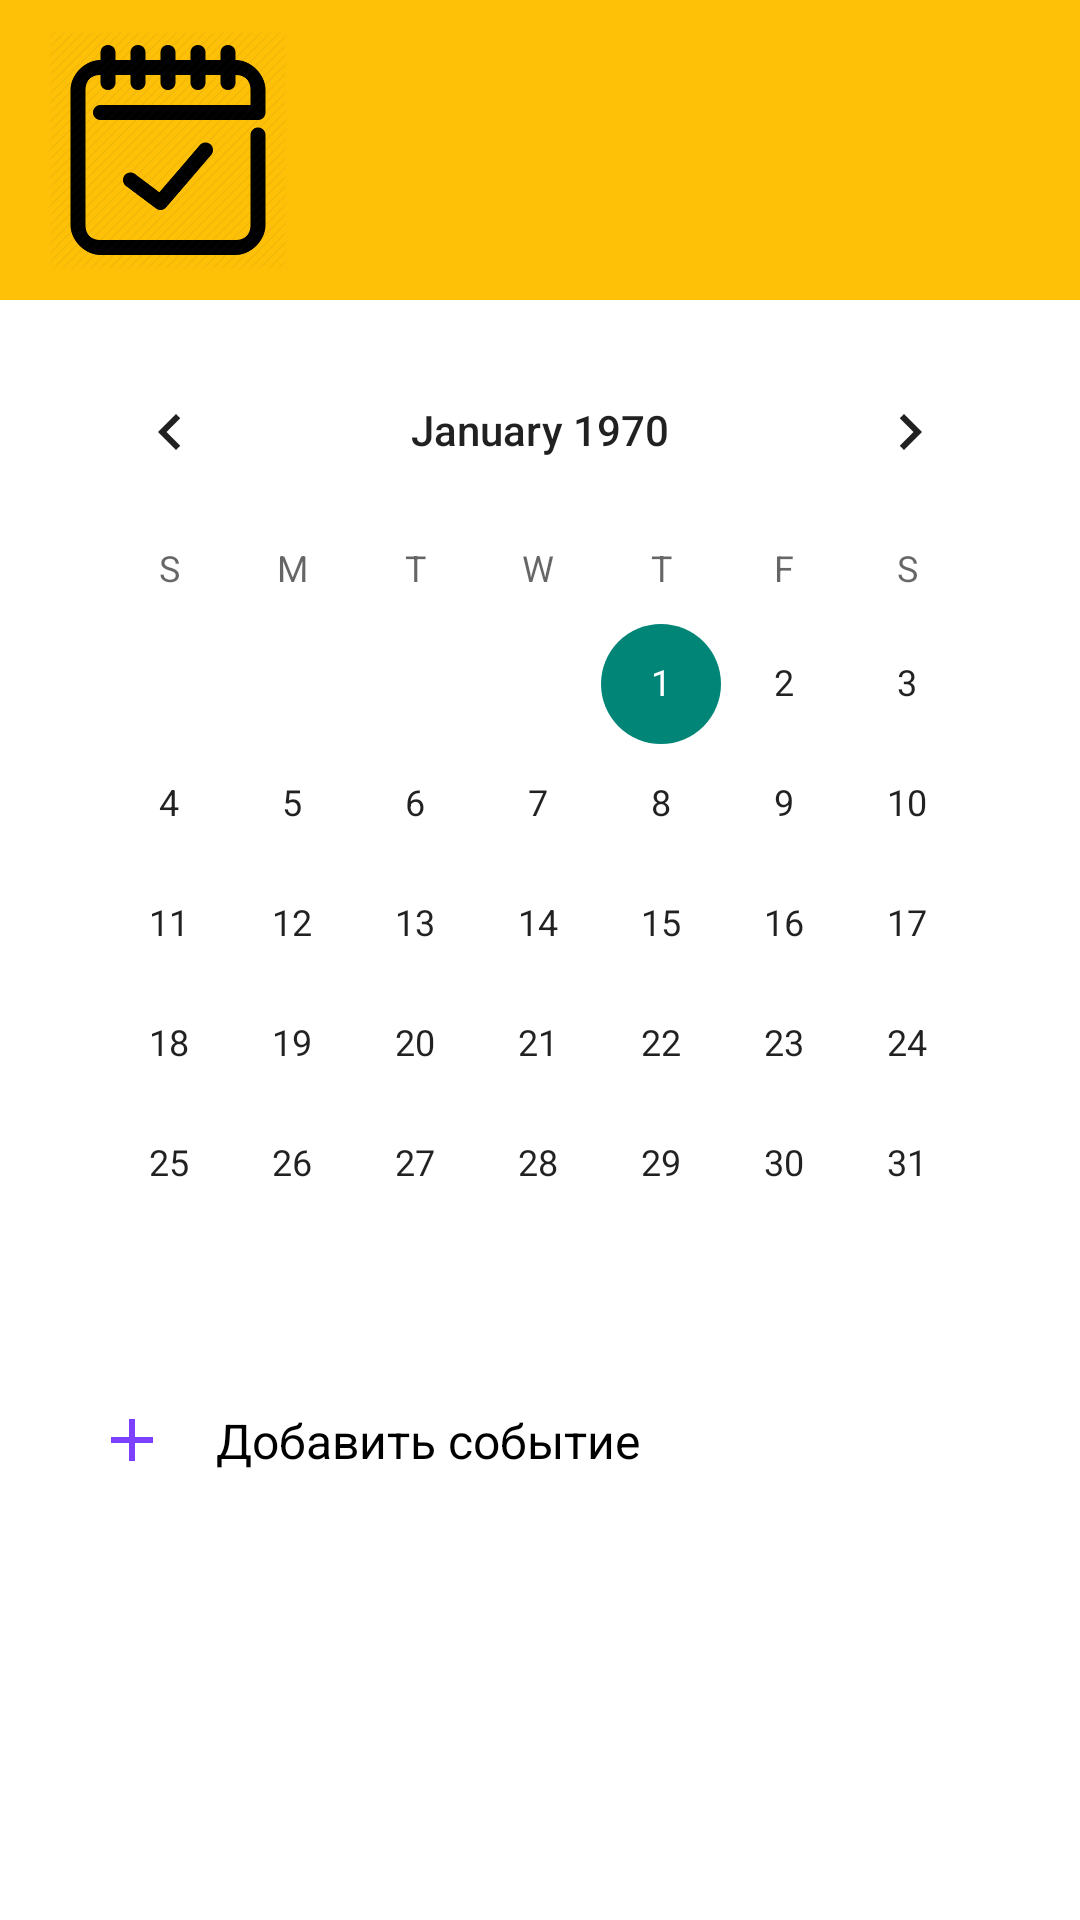

Named icons in this screenshot (1080*1920) and their bounding boxes, {"x1": x1, "y1": y1, "x2": x2, "y2": y2}:
add: {"x1": 111, "y1": 1419, "x2": 153, "y2": 1461}
calendar day: {"x1": 70, "y1": 45, "x2": 266, "y2": 255}
